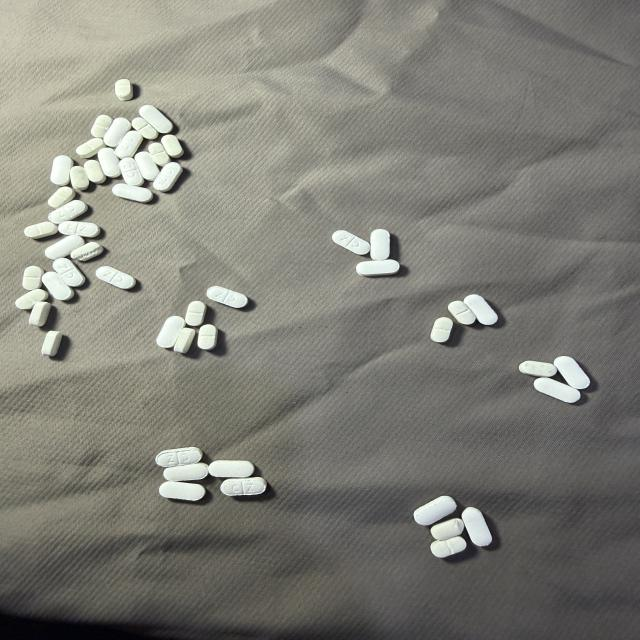pill: (414, 496, 456, 526), (462, 507, 492, 546), (554, 356, 589, 389), (534, 378, 580, 403), (464, 295, 497, 325), (139, 105, 172, 133), (156, 447, 202, 467), (96, 266, 136, 289), (49, 200, 87, 224), (45, 236, 84, 259), (157, 316, 185, 348), (53, 258, 85, 286), (333, 231, 370, 255), (159, 482, 205, 501), (153, 162, 182, 192), (43, 272, 74, 300), (207, 287, 248, 308), (221, 477, 267, 495), (209, 460, 254, 478), (163, 463, 208, 481), (104, 118, 131, 147), (115, 131, 143, 158), (112, 184, 153, 202), (431, 537, 466, 558), (431, 518, 464, 540), (119, 158, 144, 186), (135, 152, 159, 181), (50, 156, 73, 186), (356, 260, 399, 276), (75, 137, 106, 159), (58, 221, 100, 237), (98, 147, 120, 177), (15, 289, 48, 309), (448, 301, 476, 324), (370, 229, 390, 260), (24, 221, 58, 239), (71, 242, 103, 261), (519, 361, 557, 377), (48, 186, 75, 208), (132, 117, 158, 139), (29, 302, 51, 326), (185, 301, 206, 326), (174, 328, 195, 353), (431, 317, 452, 342), (84, 160, 106, 183), (161, 135, 183, 158), (23, 266, 44, 290), (42, 331, 62, 356), (91, 115, 112, 138), (149, 143, 170, 166), (198, 325, 217, 350), (70, 166, 89, 190), (115, 79, 133, 100)
